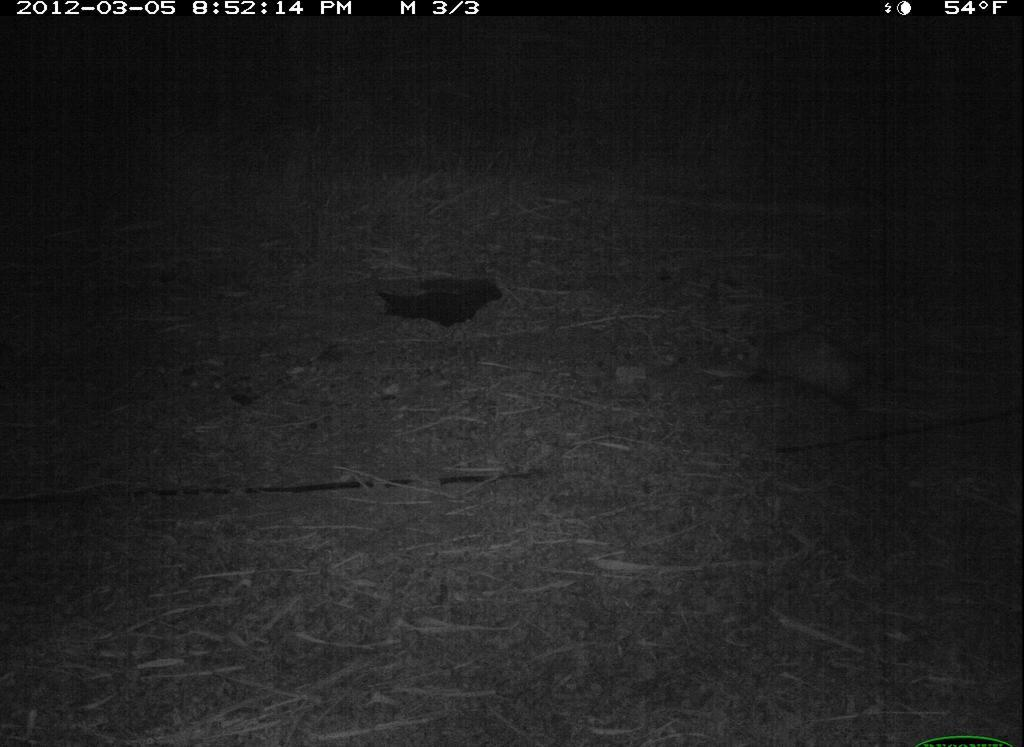opossum: (720, 322, 904, 427)
